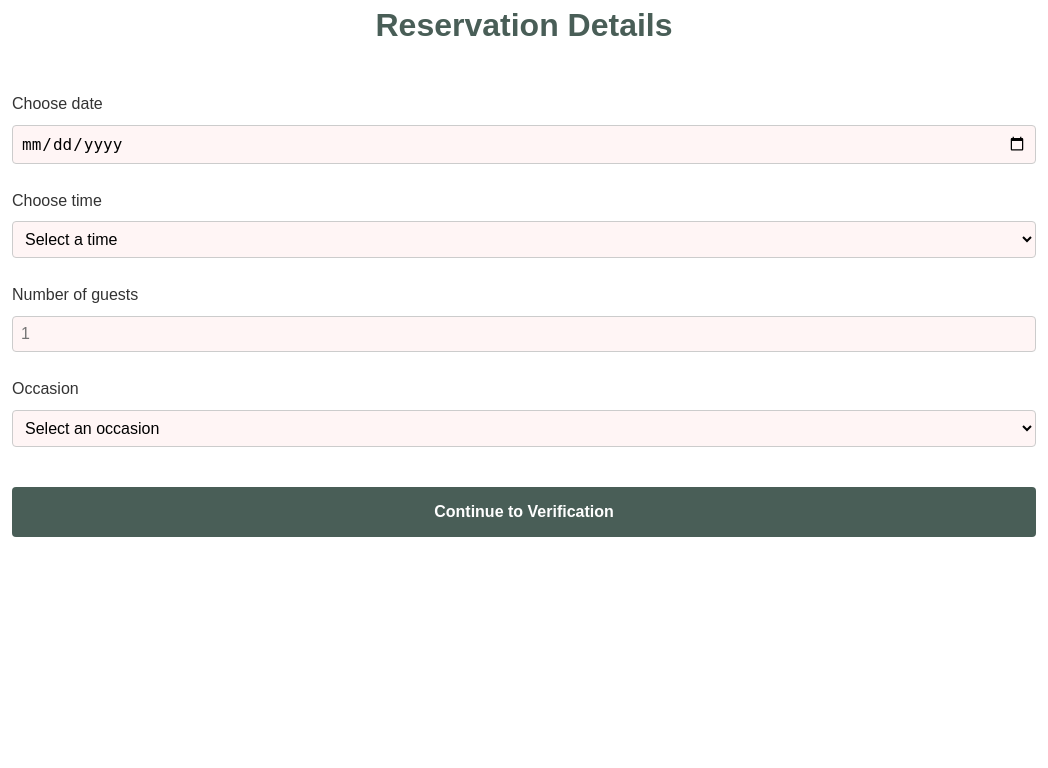
it: BookingForm Component › shows personal information form after initial validation
The width and height of the screenshot is (1048, 768).
# Fill out first form
Step 1. Type "2025-04-21" into the date field labelled "Choose date" → (524,144), box [12,125,1036,164]
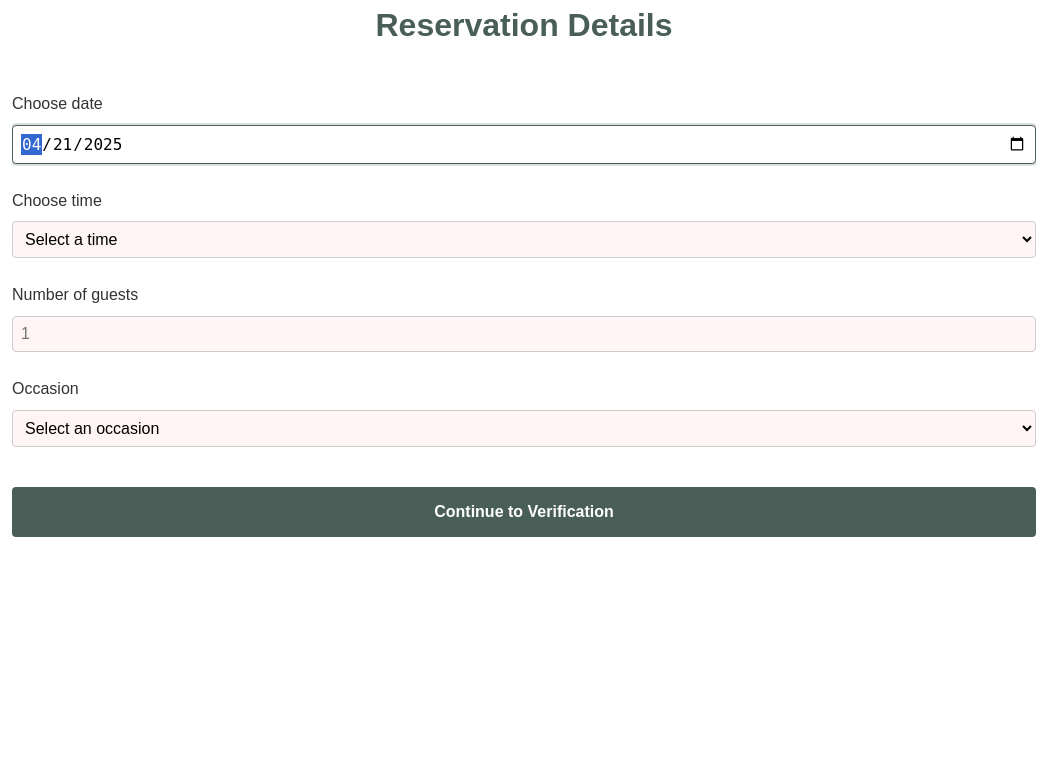
Step 2. Select "18:00" in the dropdown labelled "Choose time" → (524,240), box [12,221,1036,258]
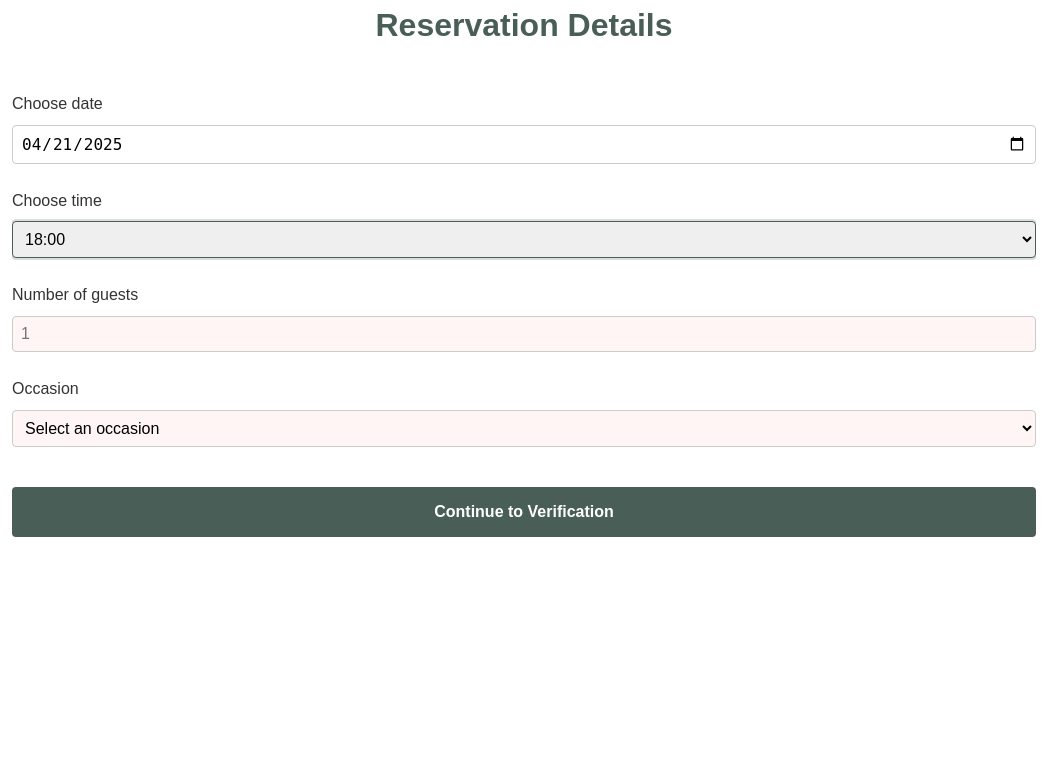
Step 3. Type "4" into the number field labelled "Number of guests" → (524,334), box [12,316,1036,352]
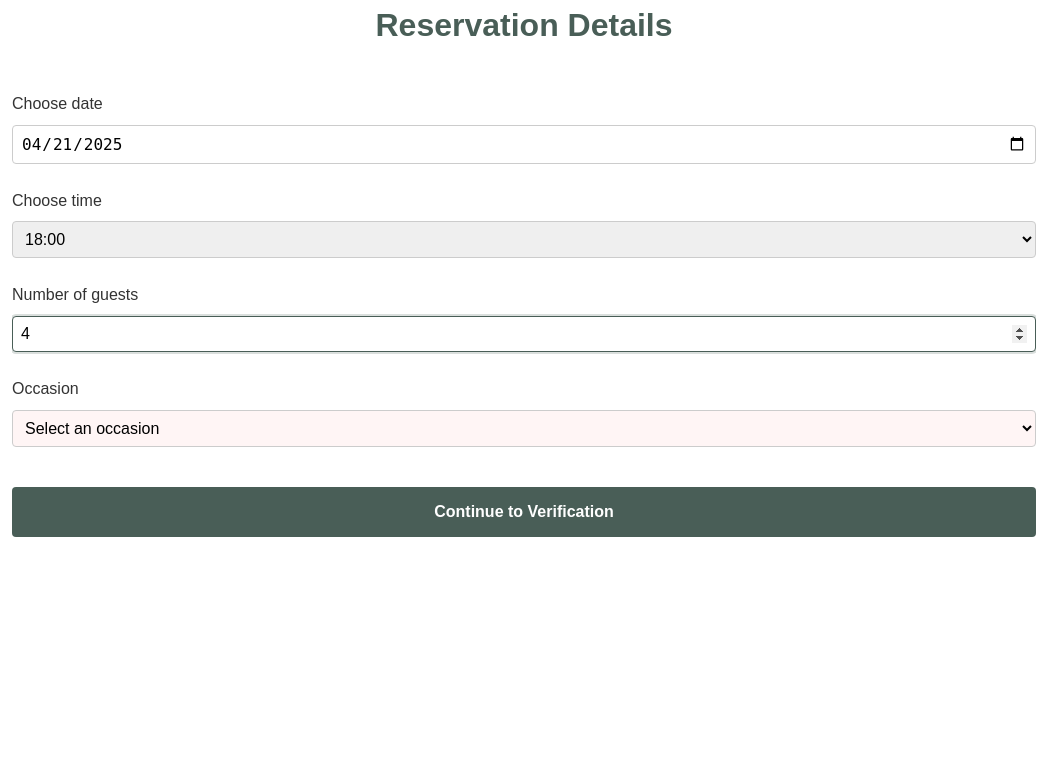
Step 4. Select "Birthday" in the dropdown labelled "Occasion" → (524,428), box [12,410,1036,447]
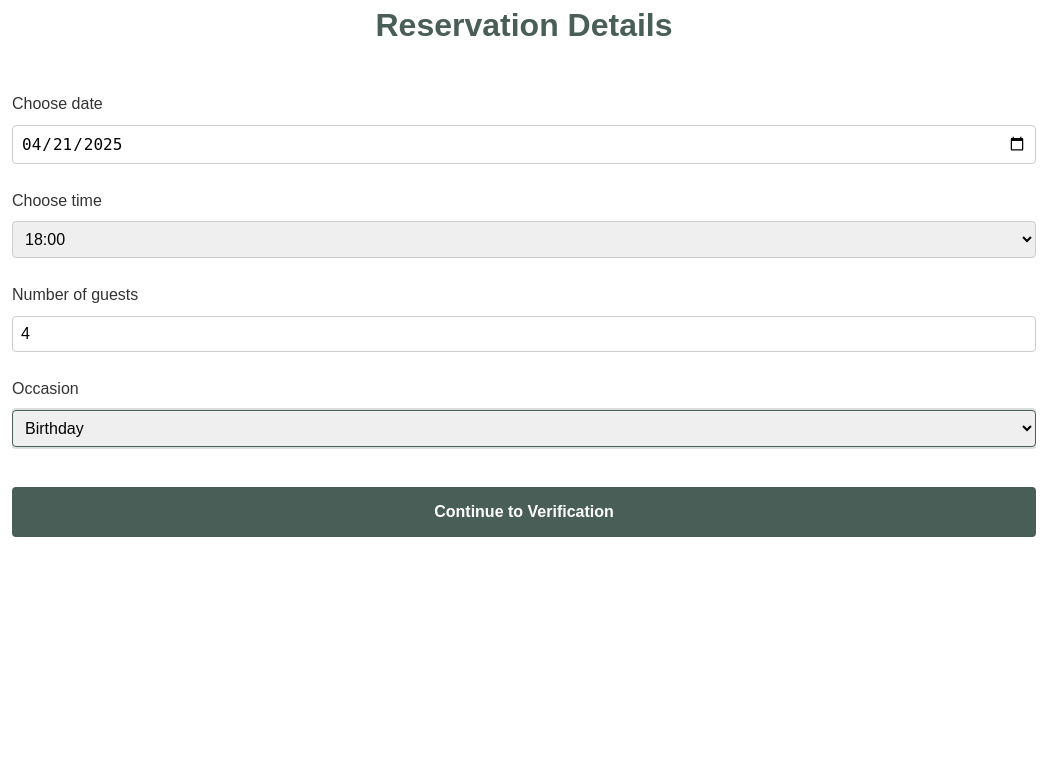
# Submit first form
Step 5. Click the button "Continue to Verification" → (524,512), box [12,487,1036,537]
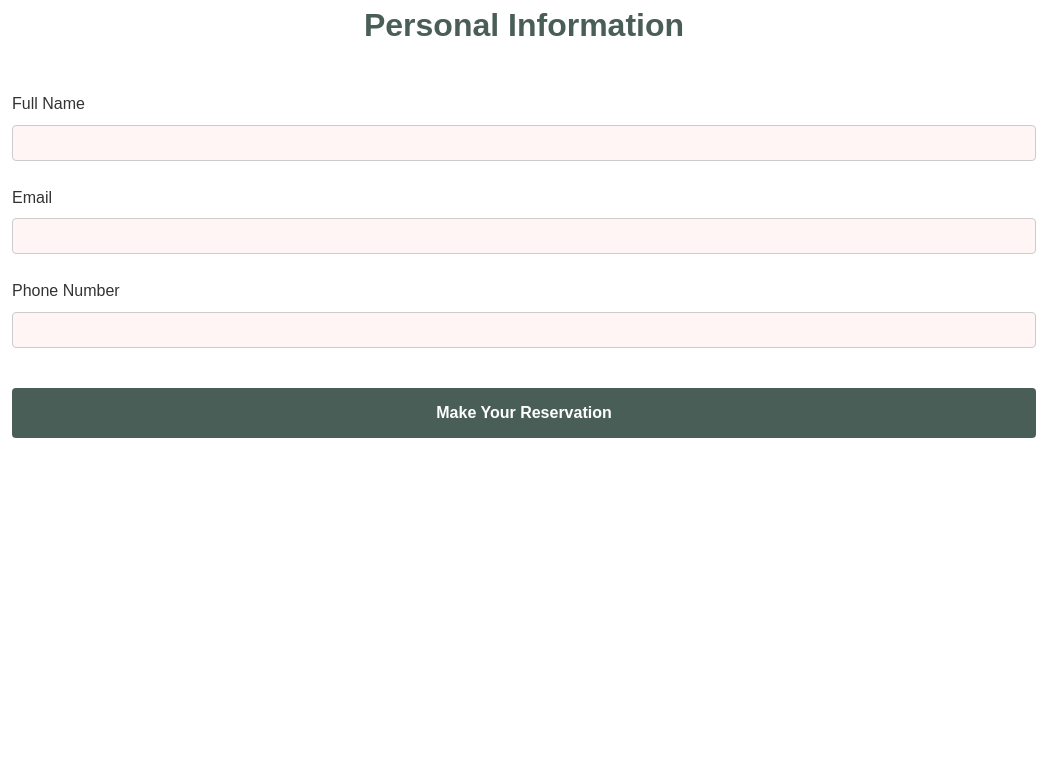
Expected: the field labelled "Full Name" is shown, [12,125,1036,161]
Now the field labelled "Email" is shown, box [12,218,1036,254]
